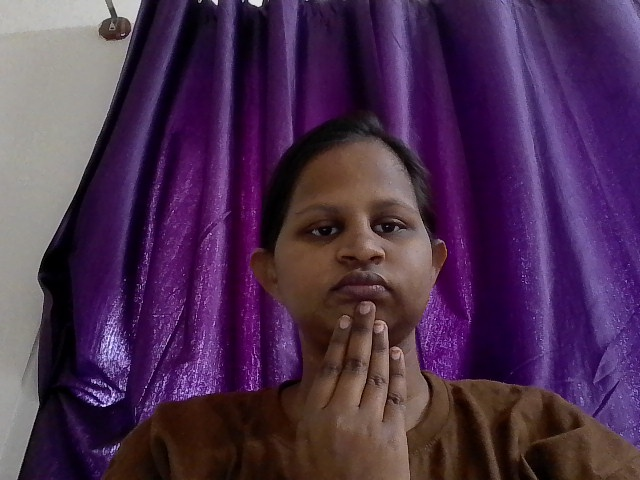THANK YOU: (202, 234, 582, 480)
